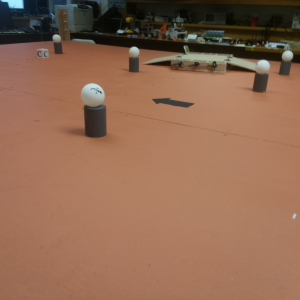blockC: (39, 48, 48, 56)
corner: (58, 10, 70, 42)
obstacle: (82, 84, 107, 136), (252, 60, 270, 91), (280, 50, 293, 76), (129, 47, 140, 72), (53, 33, 60, 55)
side: (170, 59, 227, 73)
slope: (228, 57, 259, 75), (145, 54, 171, 70)
start: (150, 97, 195, 109)
